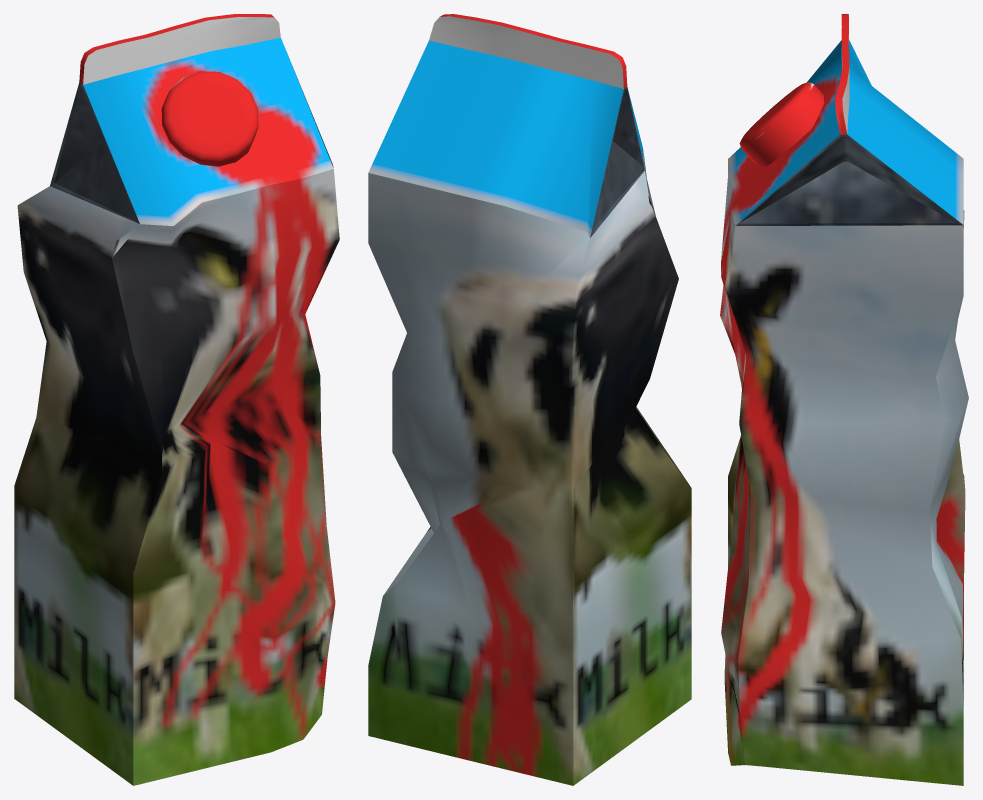
The model's file is milkCarton_broken.glb.
3 views of the same model, side by side, from view 1: azimuth 30°, elevation 25°; view 2: azimuth 150°, elevation 25°; view 3: azimuth 270°, elevation 25° (orthographic).
Parts seen in each view (by area): view 1: drink_carton_01; view 2: drink_carton_01; view 3: drink_carton_01.
Boxes of the visible parts, box(x1,y1,x2,y2) form: drink_carton_01: box(14, 14, 339, 785); drink_carton_01: box(368, 14, 691, 785); drink_carton_01: box(720, 14, 968, 785).
Size of the model in its own units: 0.0703 by 0.224 by 0.0739.
1 material, 1 textured.
